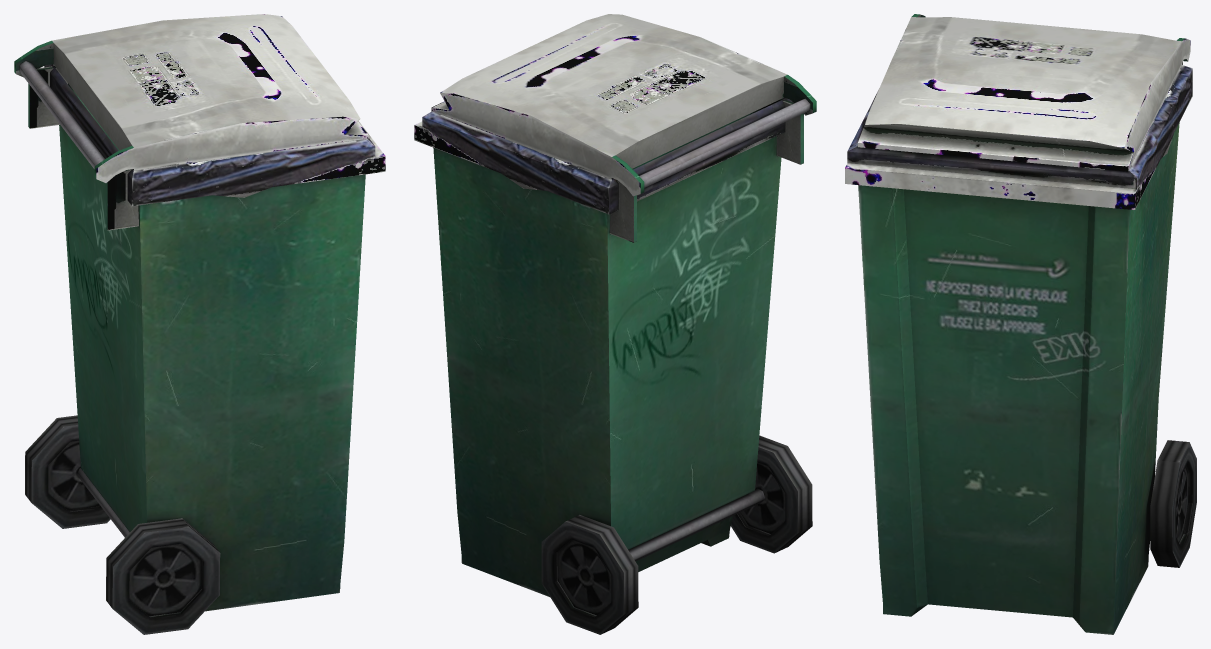
Rendered from poubelle_4.glb.
The picture shows the model from 3 angles, left to right: view 1: azimuth 30°, elevation 25°; view 2: azimuth 150°, elevation 25°; view 3: azimuth 270°, elevation 25°; orthographic projection. The views are drawn at different scales.
Visible parts, largest first — view 1: SM_TrashBin_Material #2_0; view 2: SM_TrashBin_Material #2_0; view 3: SM_TrashBin_Material #2_0.
Part boxes in pixels (x1=…): SM_TrashBin_Material #2_0: x1=14, y1=14, x2=385, y2=634; SM_TrashBin_Material #2_0: x1=414, y1=14, x2=816, y2=634; SM_TrashBin_Material #2_0: x1=845, y1=14, x2=1196, y2=634.
Bounding box in the file's own units: 0.7162 × 1.11 × 0.6904.
1 material, 1 textured.
